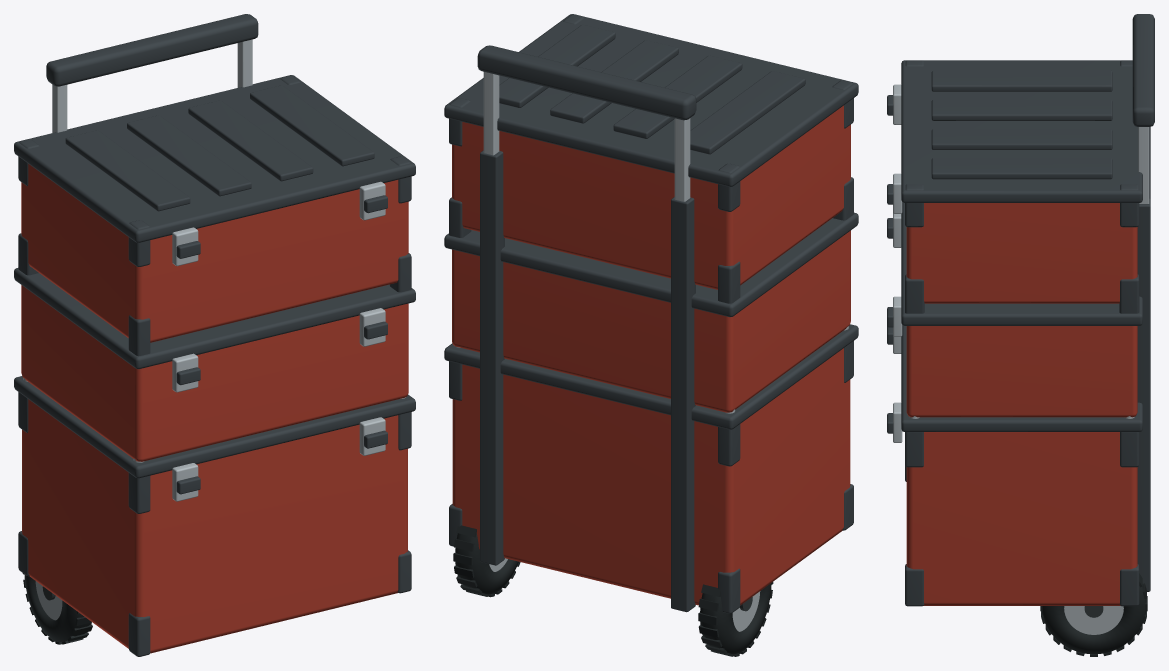
Rendered from garage-tool-case-tower.glb.
The picture shows the model from 3 angles, left to right: view 1: azimuth 30°, elevation 25°; view 2: azimuth 150°, elevation 25°; view 3: azimuth 270°, elevation 25°; orthographic projection. The views are drawn at different scales.
Visible parts, largest first — view 1: catalog_surface_RealismUV; view 2: catalog_surface_RealismUV; view 3: catalog_surface_RealismUV.
Boxes of the visible parts, x1,y1,x2,y2 form: catalog_surface_RealismUV: (14, 14, 415, 656); catalog_surface_RealismUV: (444, 14, 858, 656); catalog_surface_RealismUV: (887, 14, 1154, 656).
Bounding box in the file's own units: 0.565 × 1.06 × 0.48.
